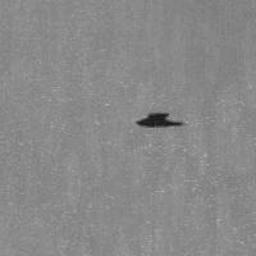Inclusion: (134, 110, 187, 129)
